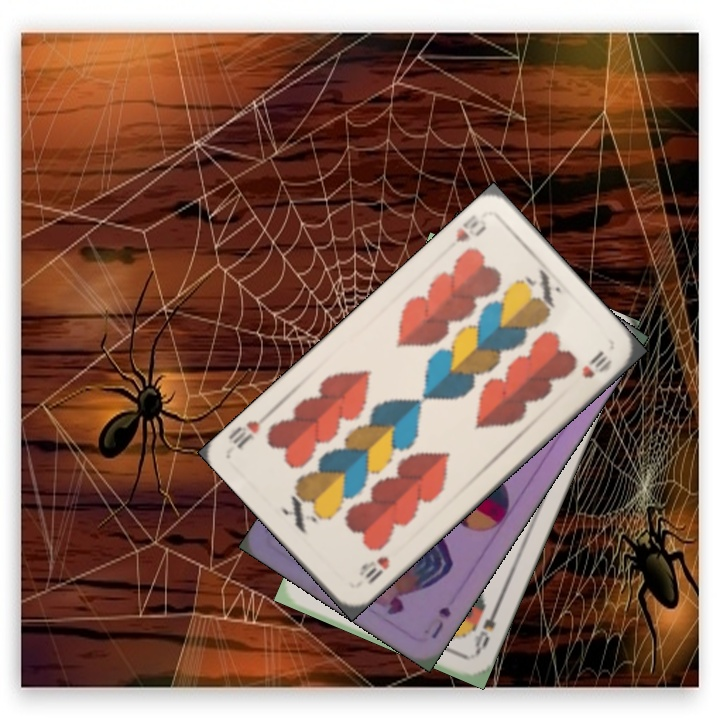H10: (354, 552, 393, 587), (451, 210, 489, 245)
SO: (470, 602, 501, 659)
SU: (427, 602, 454, 642)
